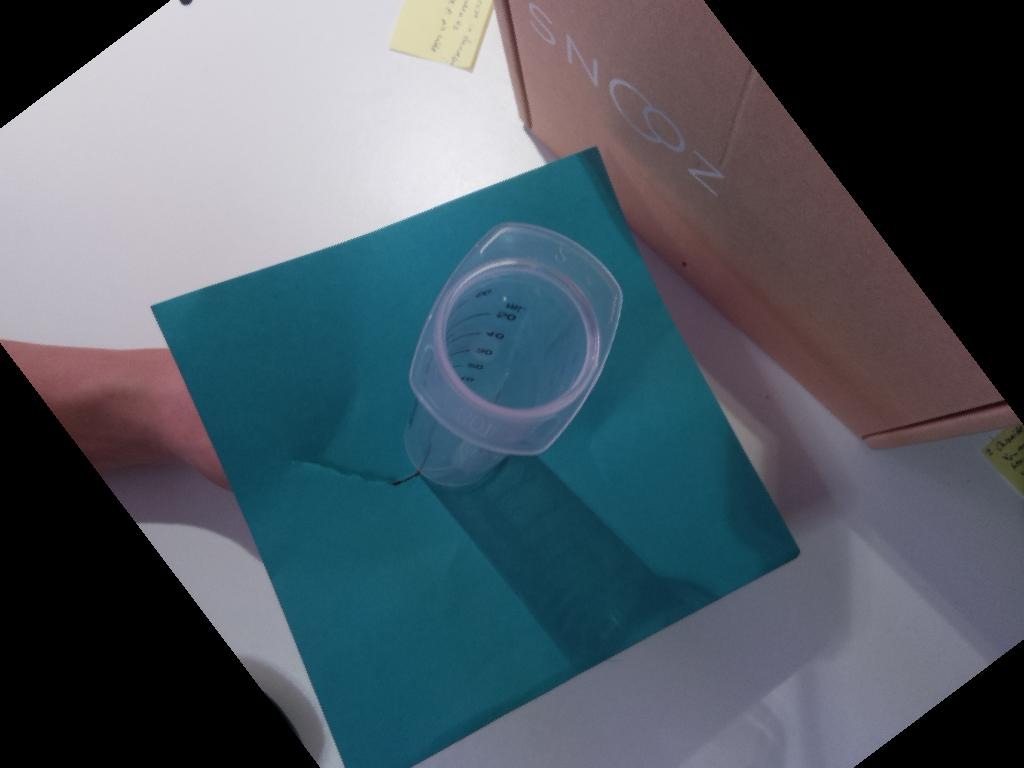clean: (409, 220, 623, 456)
